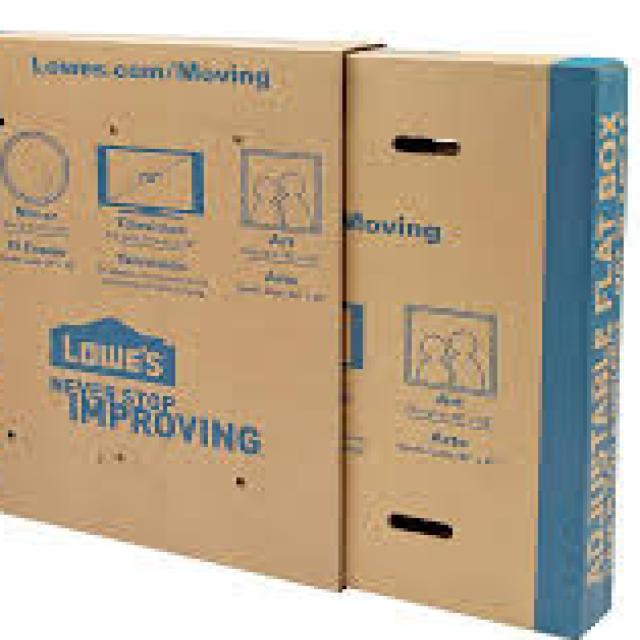organic: (6, 40, 630, 628)
